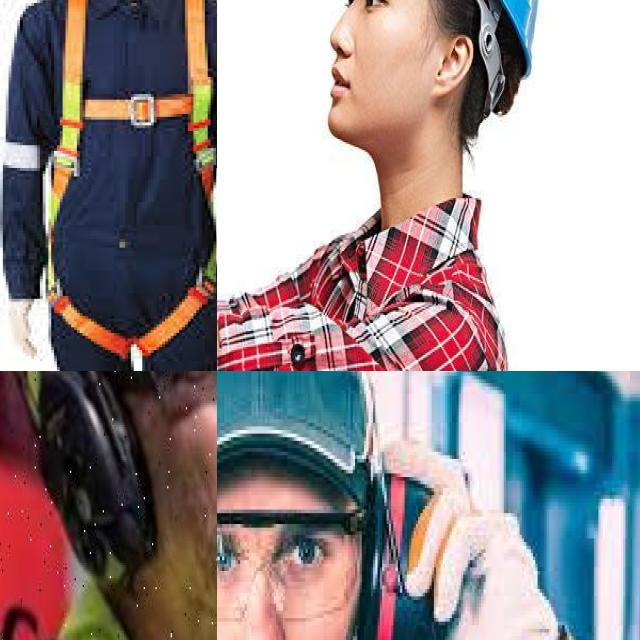Ear-protection: (217, 434, 474, 640), (35, 371, 152, 576)
Harness: (44, 0, 217, 360)
No_Ear-Protection: (428, 25, 478, 115)
No_Glasses: (324, 0, 394, 35)
